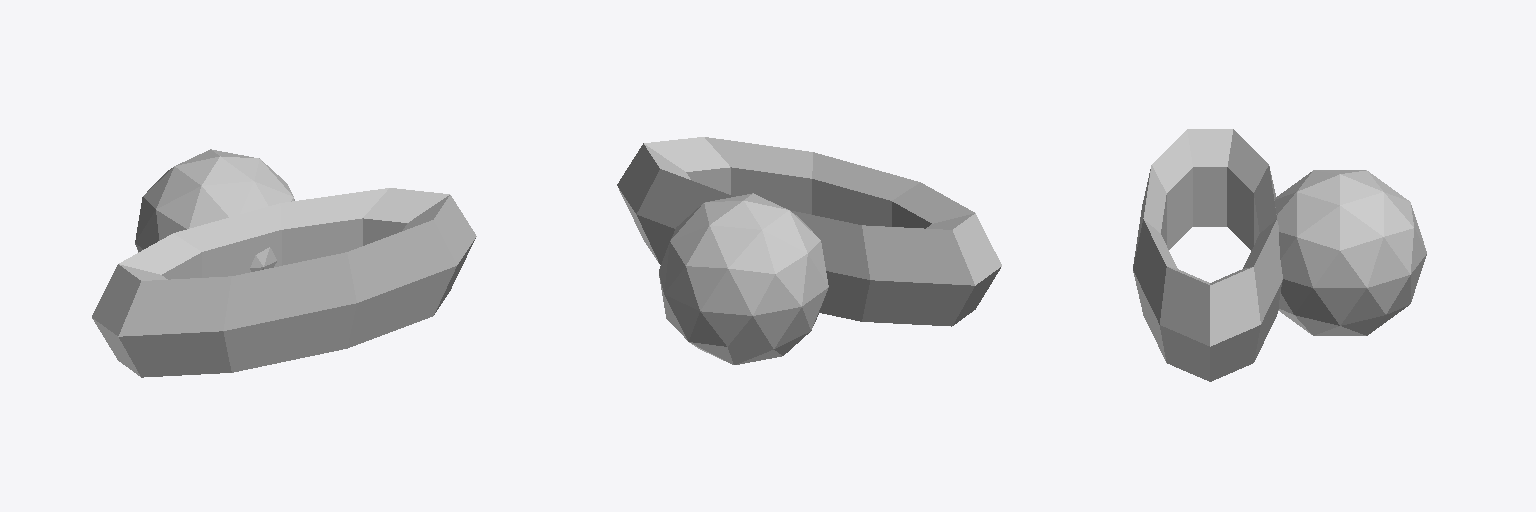
Rendered from lowpoly_ring.obj.
3 views of the same model, side by side, from view 1: azimuth 30°, elevation 25°; view 2: azimuth 150°, elevation 25°; view 3: azimuth 270°, elevation 25° (orthographic).
Parts seen in each view (by area): view 1: Torus, Icosphere; view 2: Torus, Icosphere; view 3: Torus, Icosphere.
Boxes of the visible parts, x1=… form: Torus: x1=92, y1=188, x2=476, y2=377; Icosphere: x1=135, y1=149, x2=294, y2=271; Torus: x1=617, y1=137, x2=1001, y2=326; Icosphere: x1=659, y1=193, x2=828, y2=364; Torus: x1=1133, y1=129, x2=1282, y2=381; Icosphere: x1=1274, y1=170, x2=1426, y2=335.
Bounding box in the file's own units: 4.93 × 2 × 3.38.